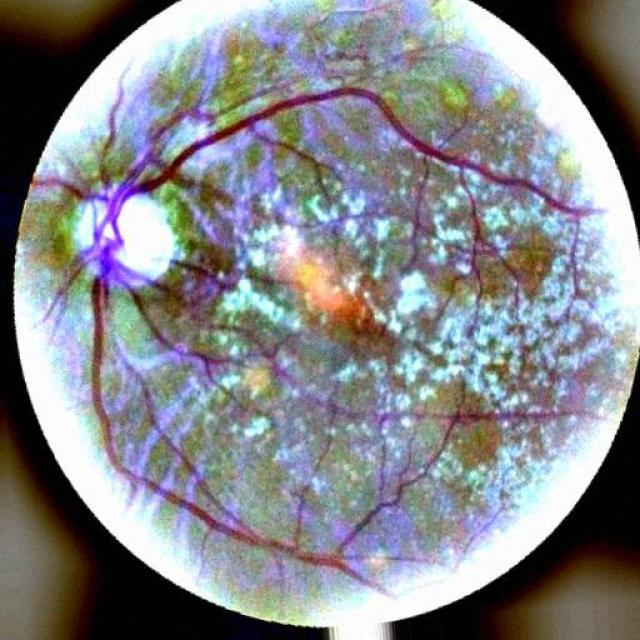Macula: (318, 258, 394, 348)
Nerves: (31, 86, 600, 592)
Optic Disk: (71, 185, 185, 289)
